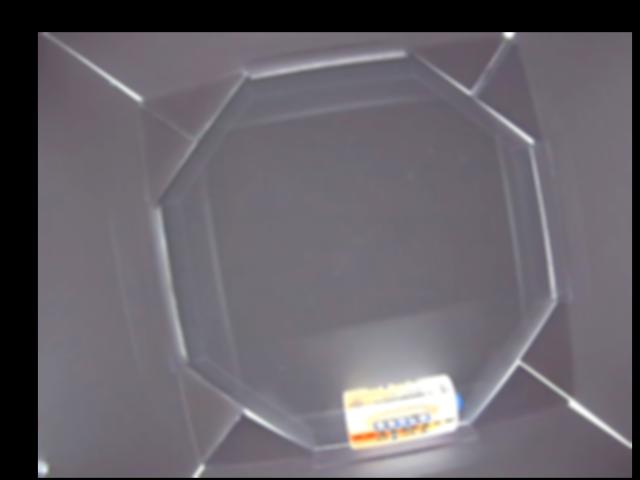Battery: (342, 373, 461, 447)
